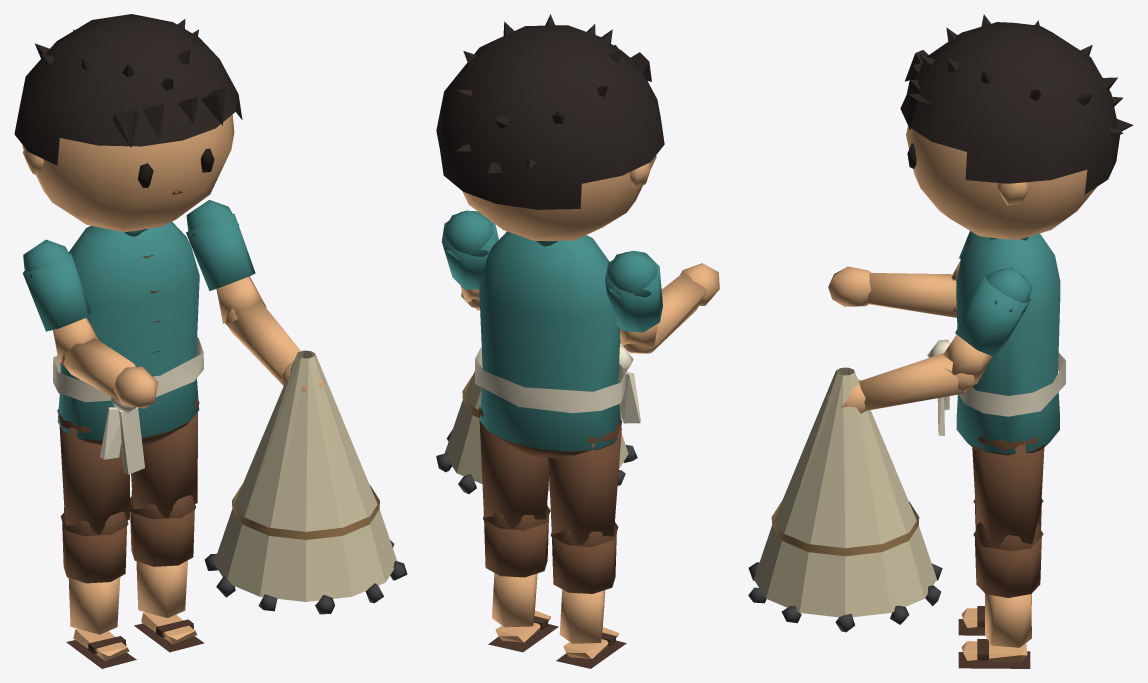
Rendered from era1_net_fisher.glb.
3 renders of one model, left to right at view 1: azimuth 30°, elevation 25°; view 2: azimuth 150°, elevation 25°; view 3: azimuth 270°, elevation 25°, orthographic.
Parts seen in each view (by area): view 1: head, prop_cast_net, body, shin_L, shin_R, leg_R, arm_L, arm_R, leg_L, forearm_R, forearm_L; view 2: head, body, shin_R, shin_L, leg_R, leg_L, arm_R, prop_cast_net, arm_L, forearm_R; view 3: head, prop_cast_net, body, shin_L, leg_L, arm_L, forearm_R, forearm_L, shin_R.
Boxes of the visible parts, box(x1,y1,x2,y2) form: head: box(14, 14, 242, 232); prop_cast_net: box(204, 350, 407, 614); body: box(53, 222, 203, 474); shin_L: box(130, 491, 204, 652); shin_R: box(62, 507, 136, 668); leg_R: box(57, 409, 129, 536); arm_L: box(186, 200, 266, 327); arm_R: box(22, 239, 98, 368); leg_L: box(130, 398, 199, 519); forearm_R: box(61, 338, 157, 408); forearm_L: box(225, 300, 322, 391); head: box(436, 14, 664, 241); body: box(475, 231, 640, 458); shin_R: box(552, 523, 626, 668); shin_L: box(484, 504, 558, 652); leg_R: box(548, 419, 622, 547); leg_L: box(479, 407, 550, 530); arm_R: box(605, 251, 662, 353); prop_cast_net: box(436, 371, 637, 493); arm_L: box(441, 210, 498, 307); forearm_R: box(620, 263, 719, 352); head: box(900, 14, 1133, 239); prop_cast_net: box(748, 367, 942, 632); body: box(927, 233, 1065, 455); shin_L: box(958, 521, 1041, 668); leg_L: box(972, 436, 1044, 551); arm_L: box(943, 267, 1032, 390); forearm_R: box(828, 266, 956, 317); forearm_L: box(826, 353, 974, 413); shin_R: box(958, 504, 1041, 635).
Size of the model in its own units: 0.7246 by 1.47 by 0.8412.
